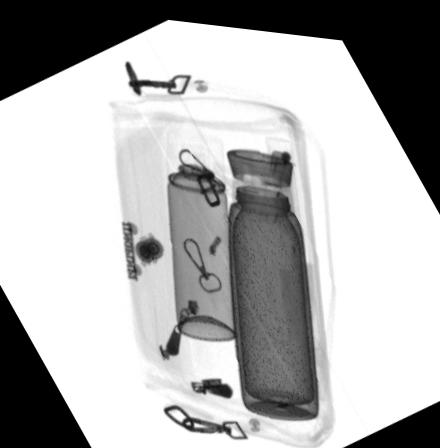Lighter: (256, 144, 296, 222)
Sprayer: (167, 122, 236, 336)
